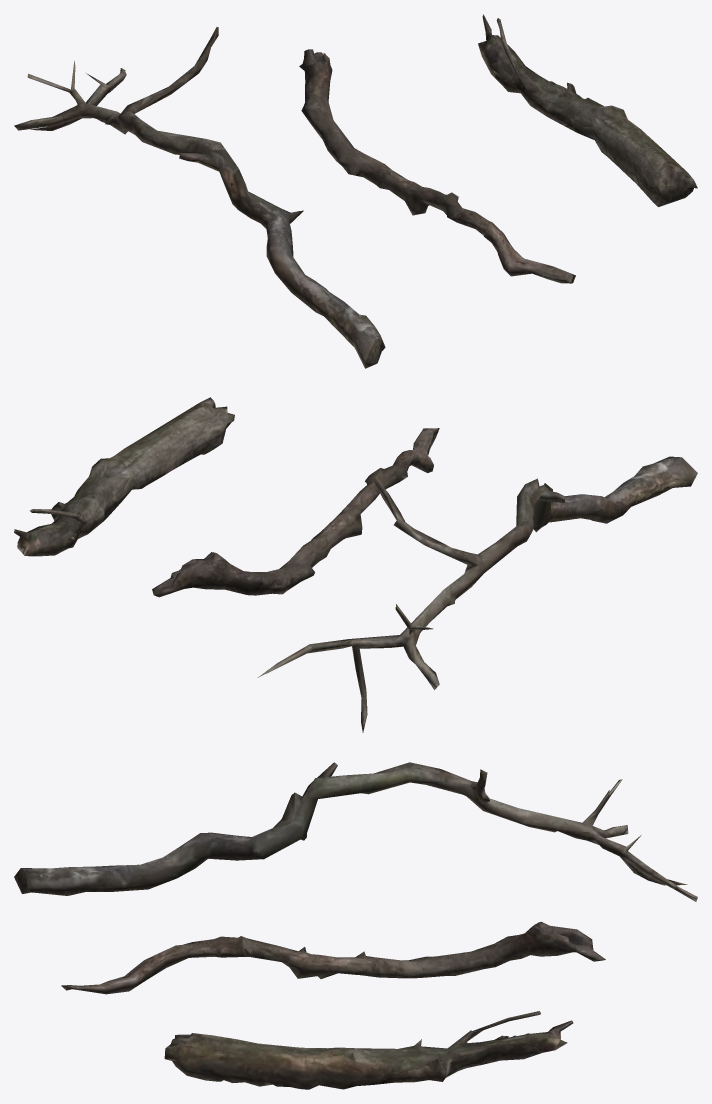
Rendered from yardprop_dry_branches.glb.
3 renders of one model, top to bottom at view 1: azimuth 30°, elevation 25°; view 2: azimuth 150°, elevation 25°; view 3: azimuth 270°, elevation 25°, orthographic. The views are drawn at different scales.
Parts seen in each view (by area): view 1: dry_branches_medium_01_a, dry_branches_medium_01_c, dry_branches_medium_01_b; view 2: dry_branches_medium_01_a, dry_branches_medium_01_c, dry_branches_medium_01_b; view 3: dry_branches_medium_01_a, dry_branches_medium_01_c, dry_branches_medium_01_b.
Boxes of the visible parts, bbox=[...] form: dry_branches_medium_01_a: bbox=[14, 27, 385, 368]; dry_branches_medium_01_c: bbox=[478, 14, 697, 206]; dry_branches_medium_01_b: bbox=[299, 49, 575, 283]; dry_branches_medium_01_a: bbox=[257, 456, 697, 732]; dry_branches_medium_01_c: bbox=[14, 397, 234, 556]; dry_branches_medium_01_b: bbox=[152, 428, 439, 597]; dry_branches_medium_01_a: bbox=[14, 762, 697, 901]; dry_branches_medium_01_c: bbox=[164, 1011, 573, 1089]; dry_branches_medium_01_b: bbox=[61, 921, 605, 994].
Size of the model in its own units: 1.06 by 0.335 by 1.3.
Materials: 1 (1 with a texture image).
